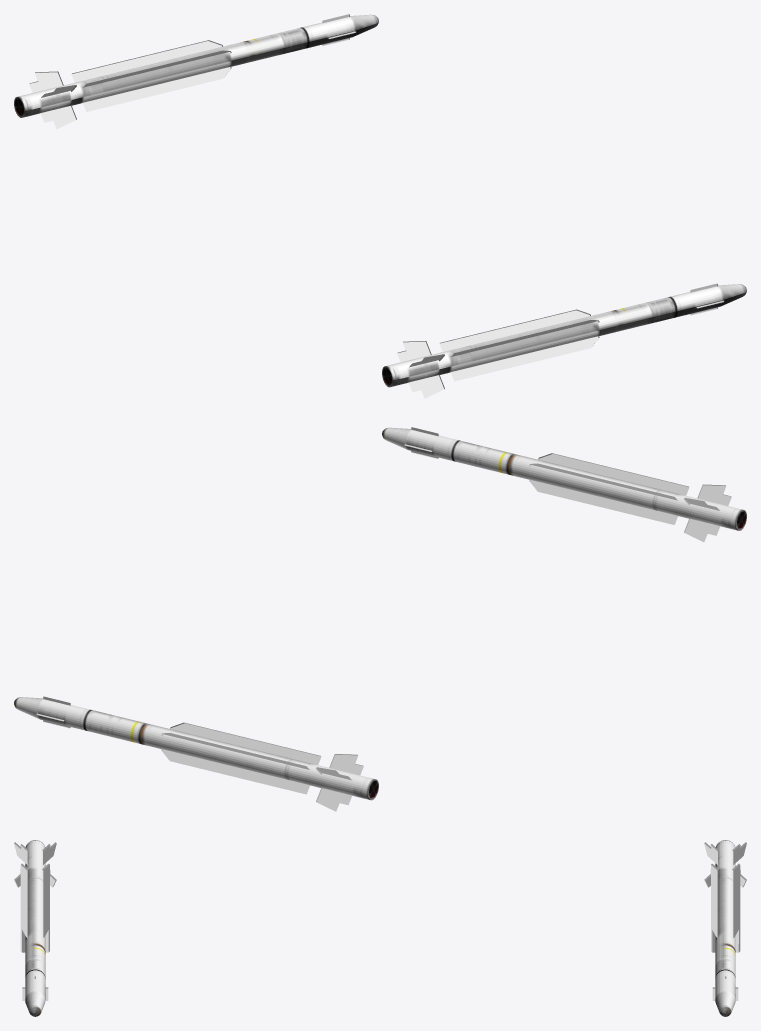
Rendered from m205micair16.glb.
3 views of the same model, one above another, from view 1: azimuth 30°, elevation 25°; view 2: azimuth 150°, elevation 25°; view 3: azimuth 270°, elevation 25° (orthographic). The views are drawn at different scales.
Parts seen in each view (by area): view 1: 円柱.007, 円柱.001; view 2: 円柱.001, 円柱.007; view 3: 円柱.007, 円柱.001.
Boxes of the visible parts, <box> form: 円柱.007: <box>382,283,746,398</box>; 円柱.001: <box>14,14,378,129</box>; 円柱.001: <box>14,696,378,811</box>; 円柱.007: <box>382,427,746,542</box>; 円柱.007: <box>14,840,56,1016</box>; 円柱.001: <box>704,840,746,1016</box>.
Bounding box in the file's own units: 3.55 × 0.3915 × 6.7.
1 material, 1 textured.
